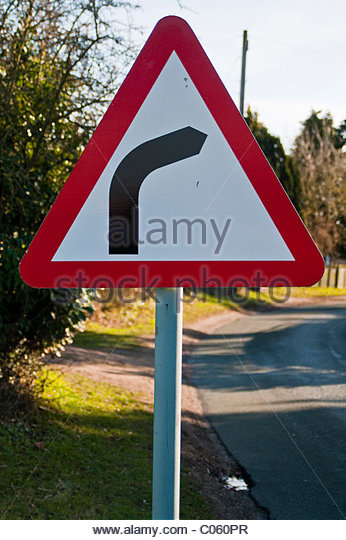Bend_to_right: (18, 10, 327, 295)
